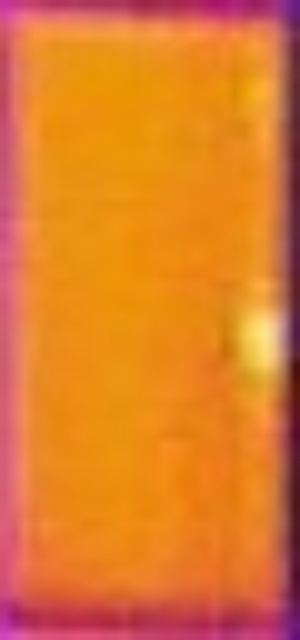Hotspot: (236, 301, 295, 384)
